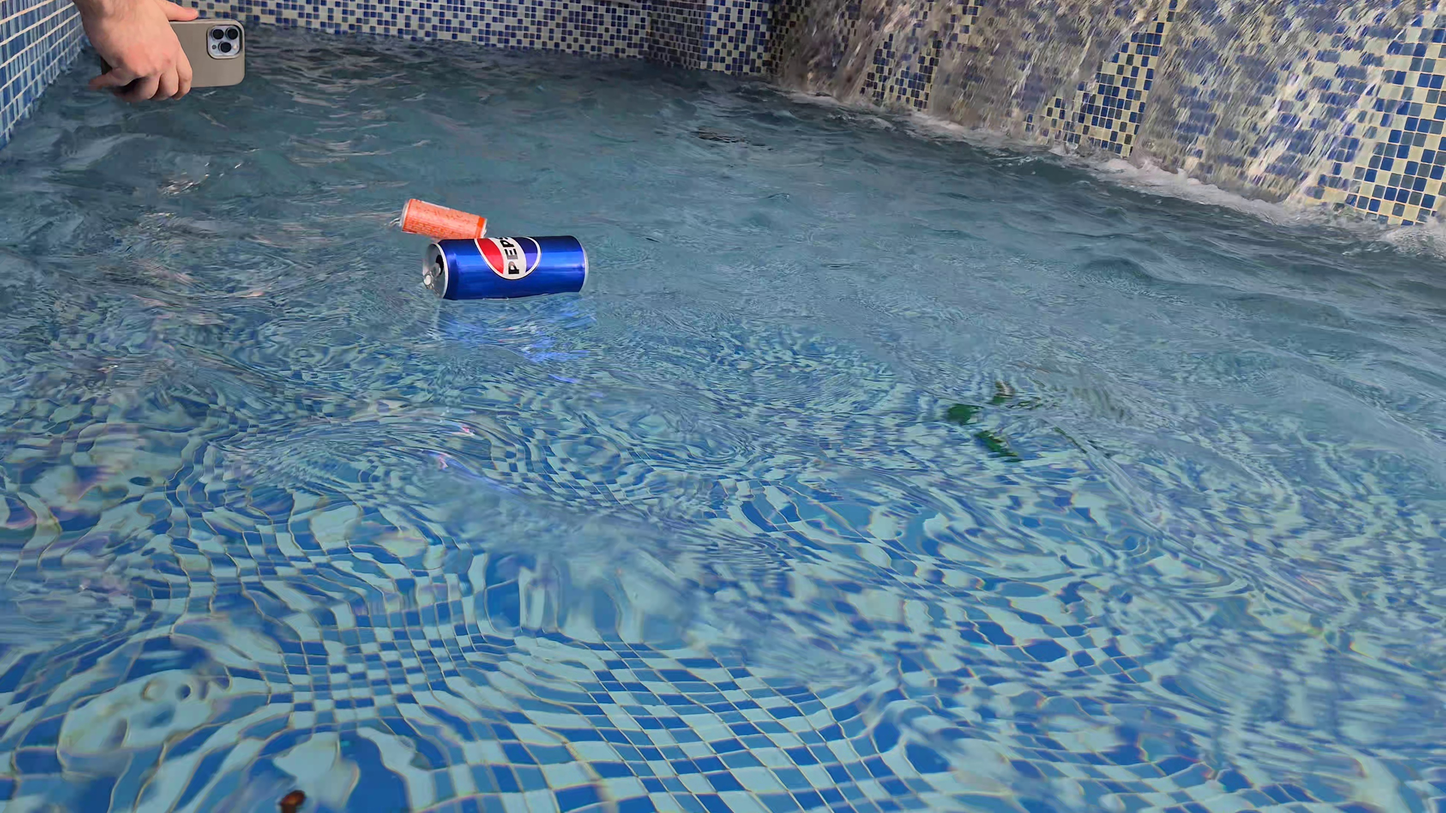debris: (420, 226, 594, 306), (395, 190, 490, 250)
